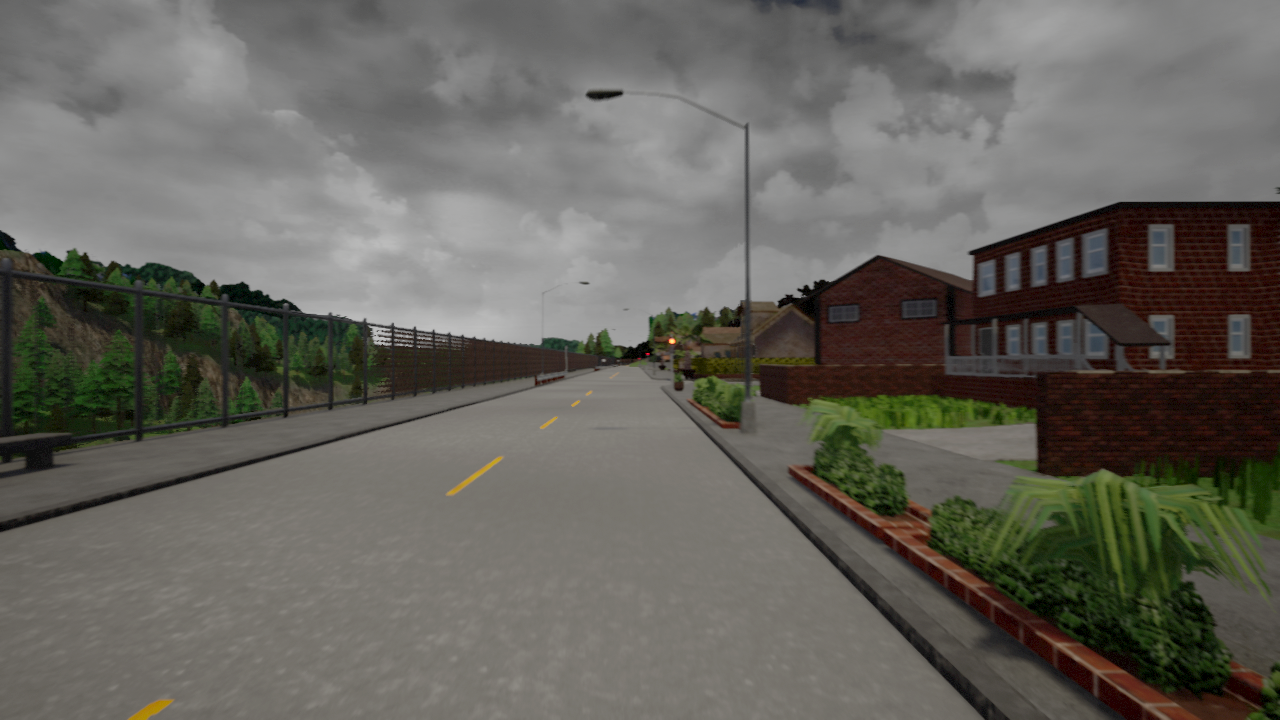red: (668, 336, 676, 354)
